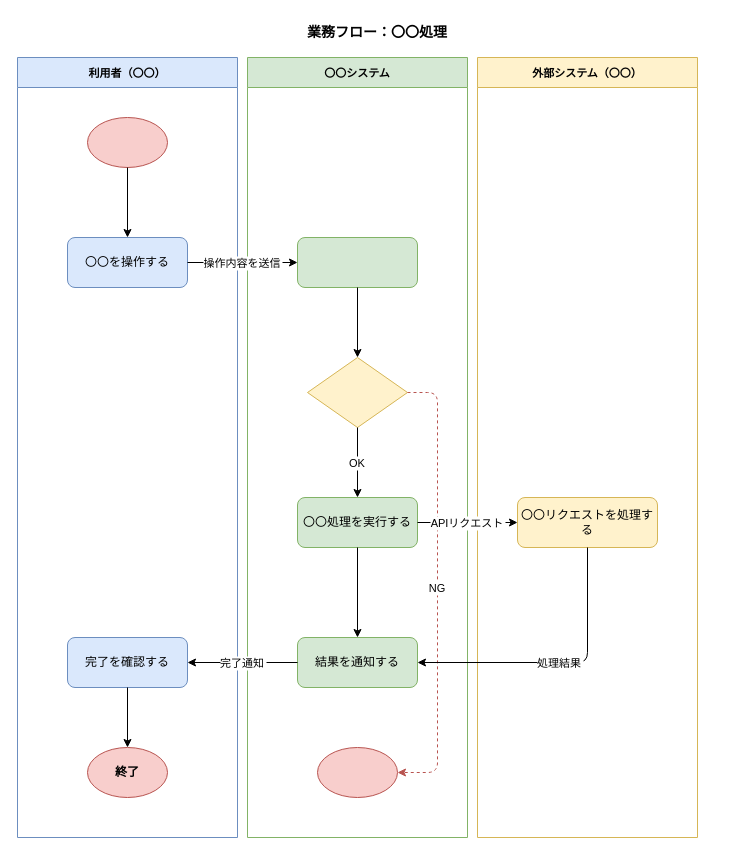
Some shapes in this 755 by 855 pixel diagram are drawn without their labels. The box of each missing label's shape, as (x1, y1, x2, y2) in pixels:
〇〇の確認: (306, 356, 408, 428)
エラー終了: (316, 746, 398, 798)
入力値を検証する: (296, 236, 418, 288)
開始: (86, 116, 168, 168)
